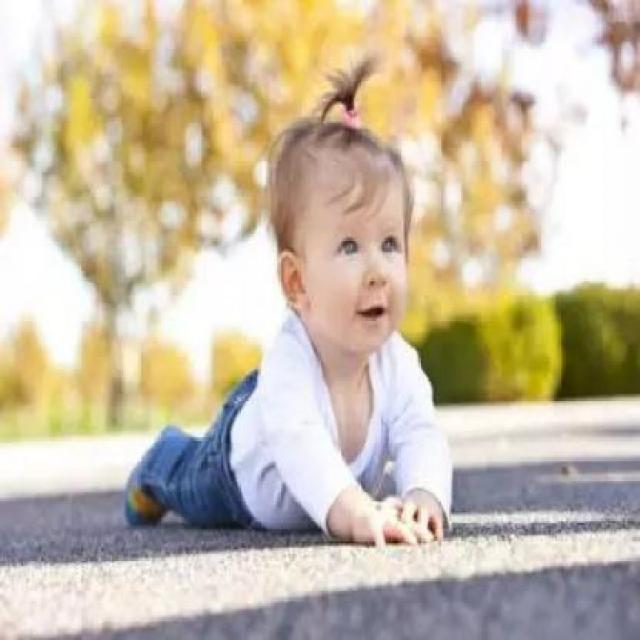fall: (99, 18, 472, 554)
